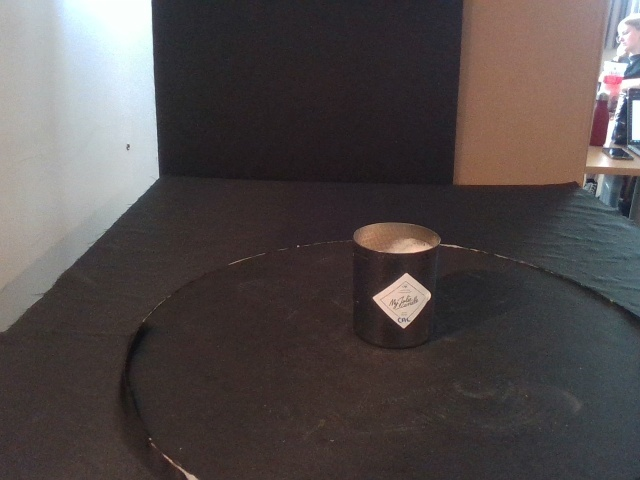candle: (352, 222, 442, 350)
